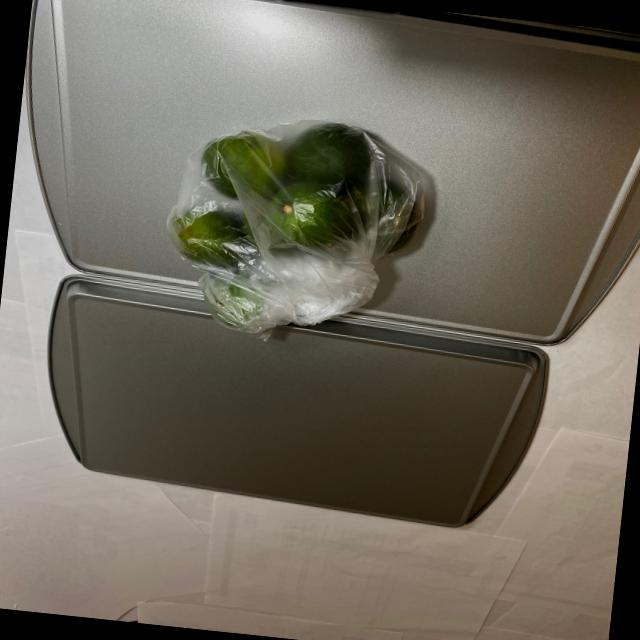lemon: (149, 110, 452, 342)
